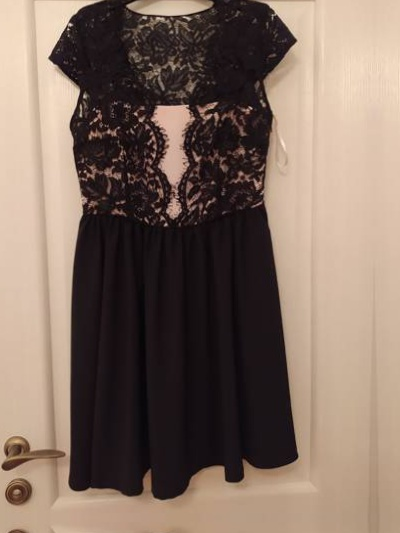Dress: (18, 0, 319, 477)
